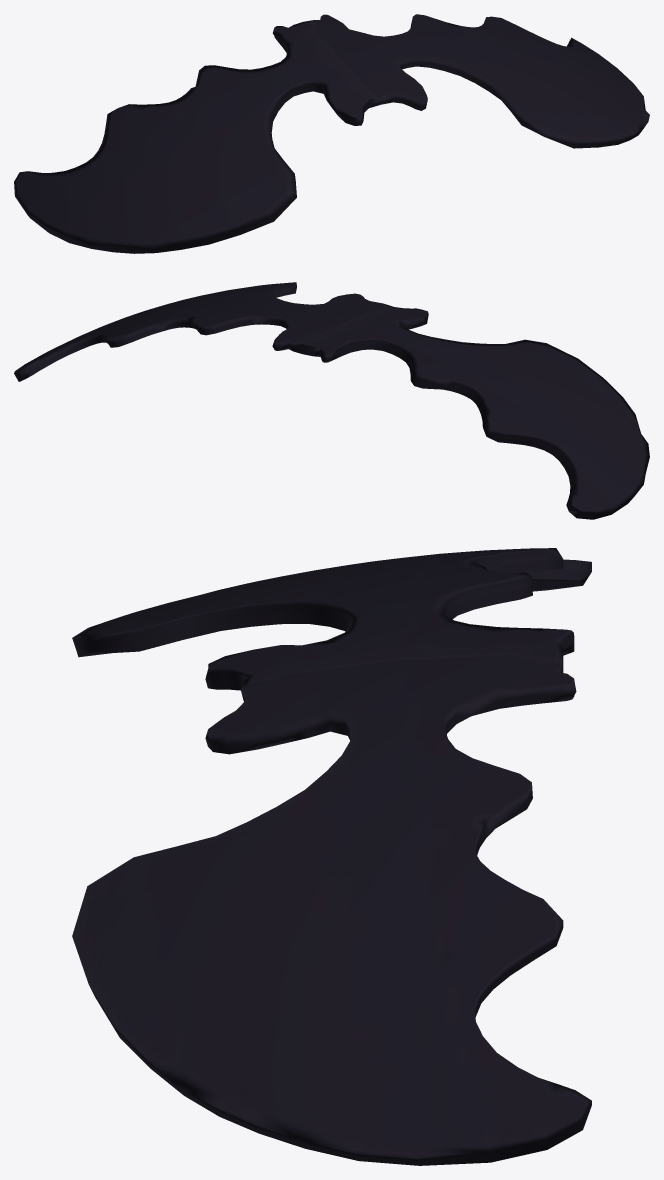
Rendered from bat.glb.
3 views of the same model, one above another, from view 1: azimuth 30°, elevation 25°; view 2: azimuth 150°, elevation 25°; view 3: azimuth 270°, elevation 25° (orthographic). The views are drawn at different scales.
Bounding box in the file's own units: 1 × 0.1851 × 0.381.
Materials: 1 (1 with a texture image).
